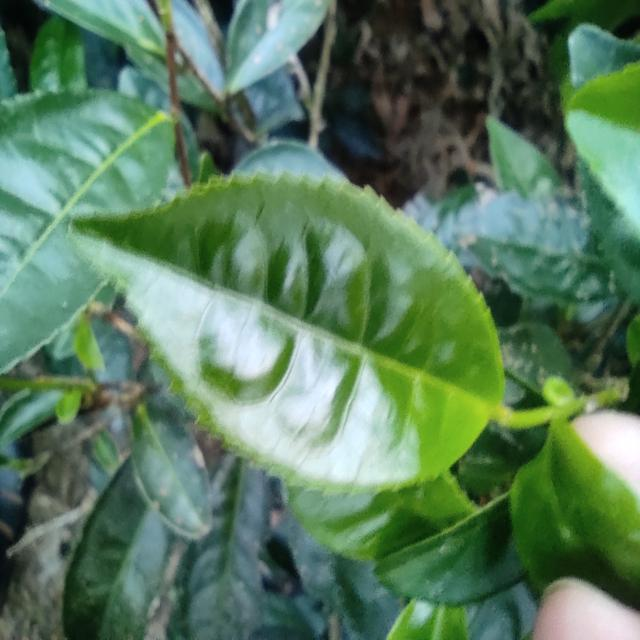Category C(4-7 days): (38, 116, 518, 515)
